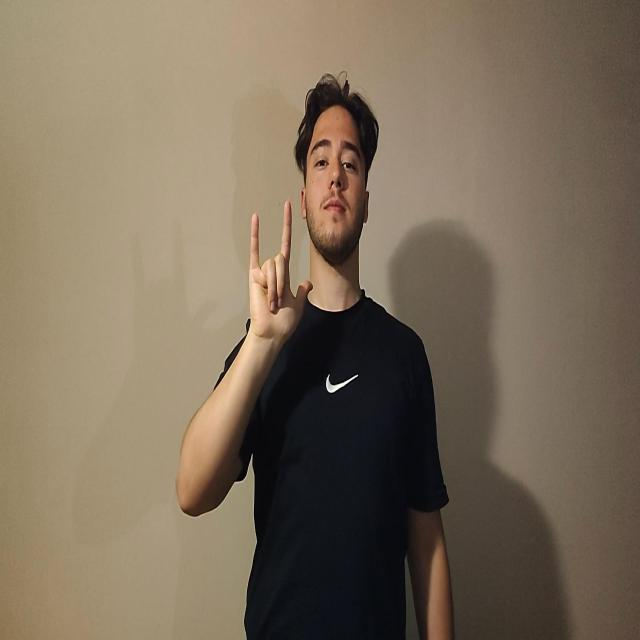iloveyou: (248, 199, 313, 346)
